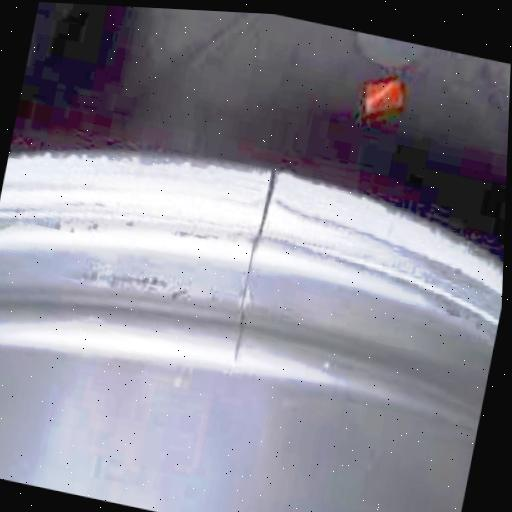crack: (213, 165, 288, 371)
